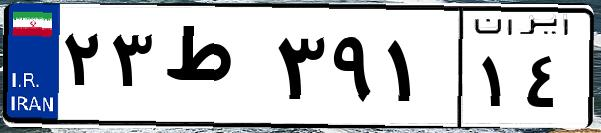1: (385, 28, 445, 110), (475, 38, 525, 113)
2: (57, 26, 110, 100)
3: (270, 28, 330, 110), (110, 28, 158, 98)
4: (525, 38, 570, 115)
9: (330, 28, 385, 110)
ط: (158, 20, 270, 120)
